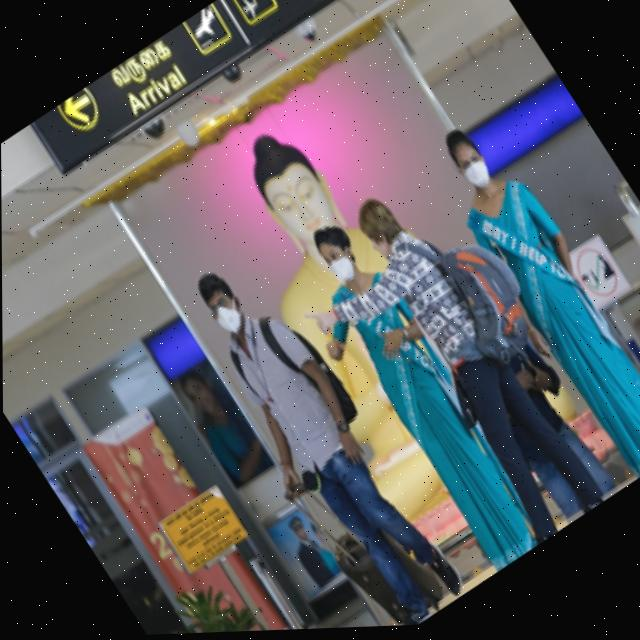Mask: (450, 147, 496, 197), (319, 241, 363, 290), (208, 292, 251, 339)
